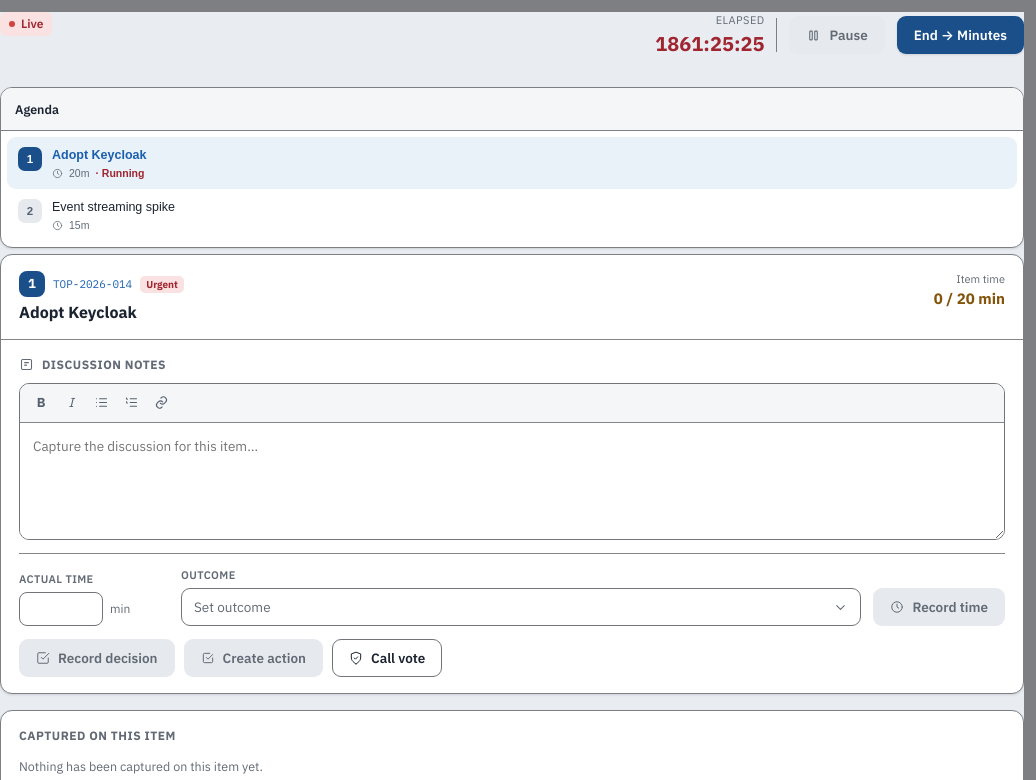
Test: MeetingWorkspace (P6d) › selects an agenda-spine item to make it the active item
Click the button "2 Event streaming spike 15m" at coordinates (113, 207), box [7, 189, 1017, 240]
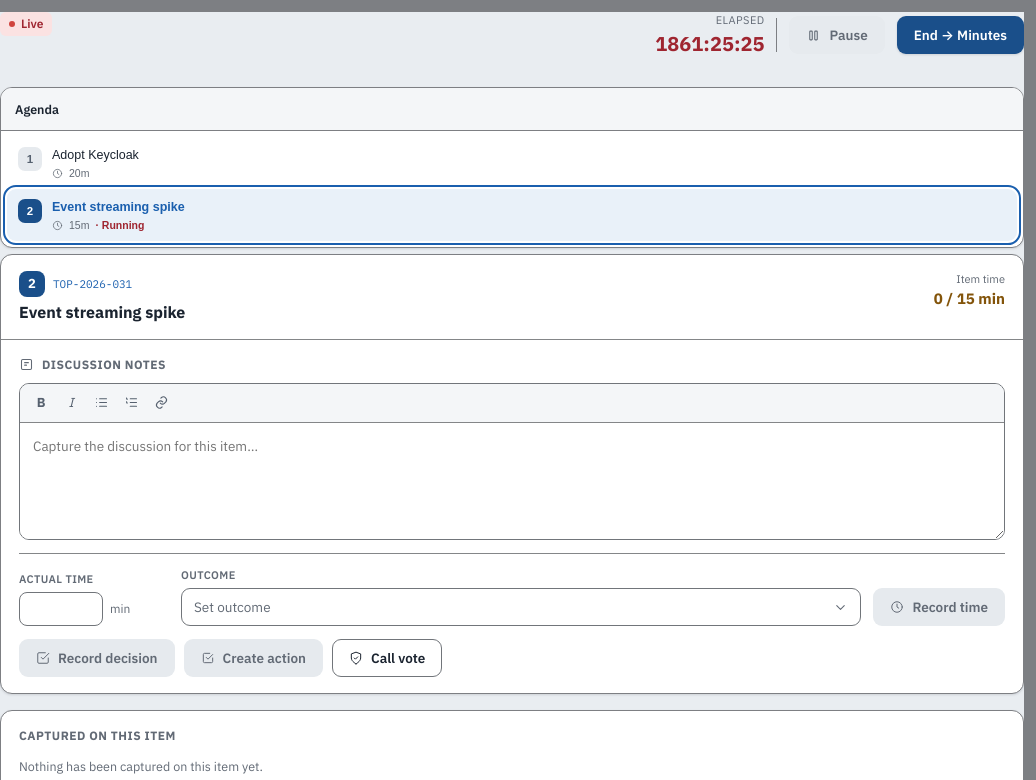
Expected: the heading "Event streaming spike" is shown, [19, 302, 185, 323]
